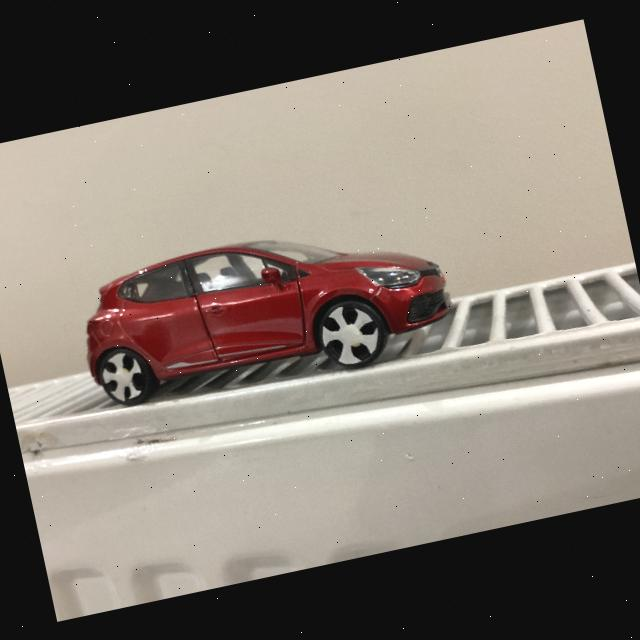Yanlis_Jant: (316, 298, 384, 369), (96, 348, 147, 405)
